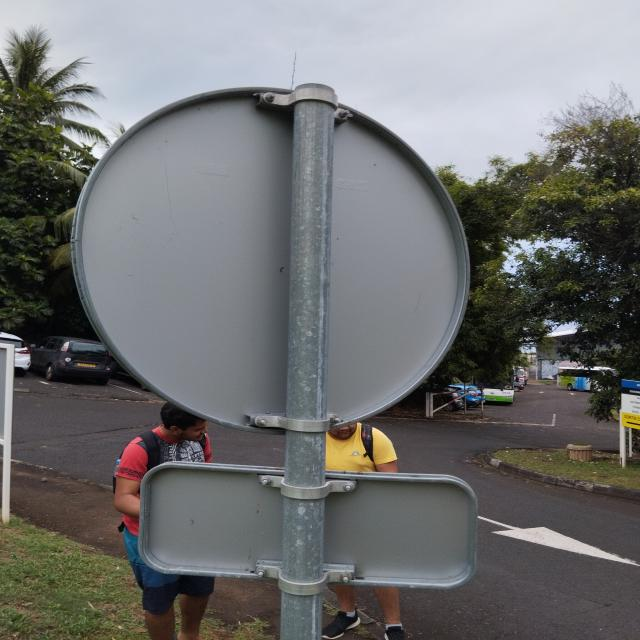Panneau: (76, 77, 478, 442)
